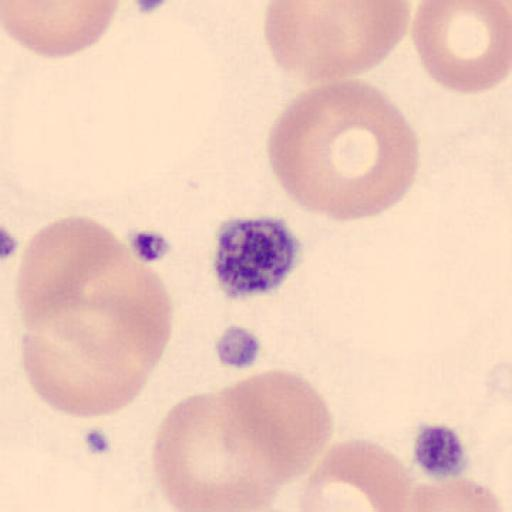Platelet: (209, 212, 306, 303), (410, 421, 472, 483)
RBC: (16, 216, 172, 374), (267, 78, 420, 222), (56, 226, 174, 371), (151, 388, 284, 512), (18, 311, 154, 420), (217, 368, 335, 484), (14, 216, 130, 333), (263, 1, 410, 88), (410, 0, 512, 96), (297, 437, 414, 512), (1, 0, 120, 59), (405, 476, 507, 512)
